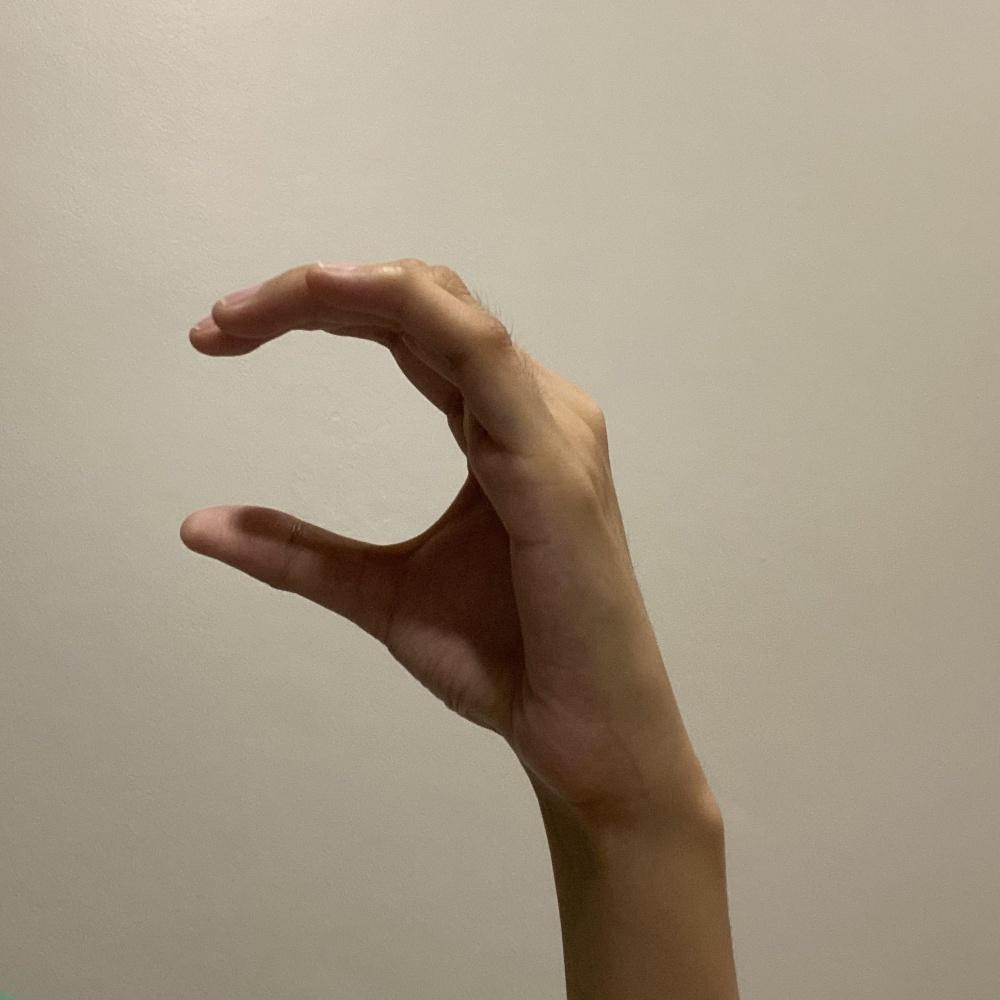c: (175, 248, 690, 790)
